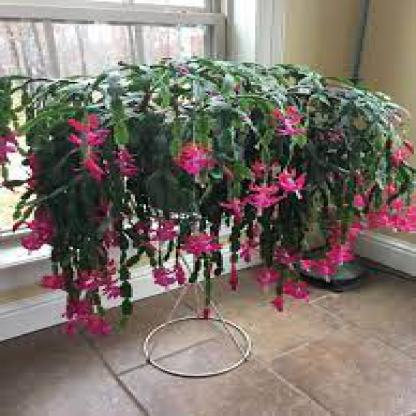Aglonema: (61, 132, 392, 361)
